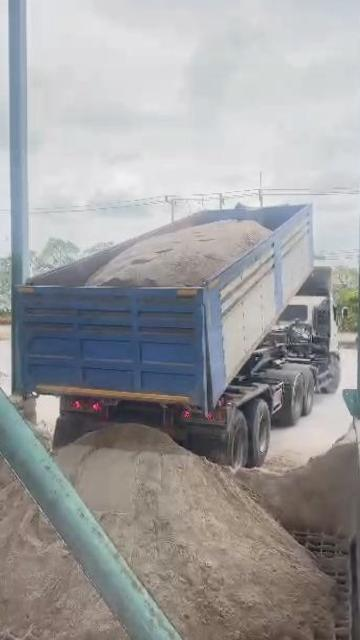sand: (59, 424, 334, 640), (0, 478, 130, 640), (237, 429, 358, 535), (88, 220, 270, 286), (0, 629, 67, 640), (0, 446, 11, 491)
